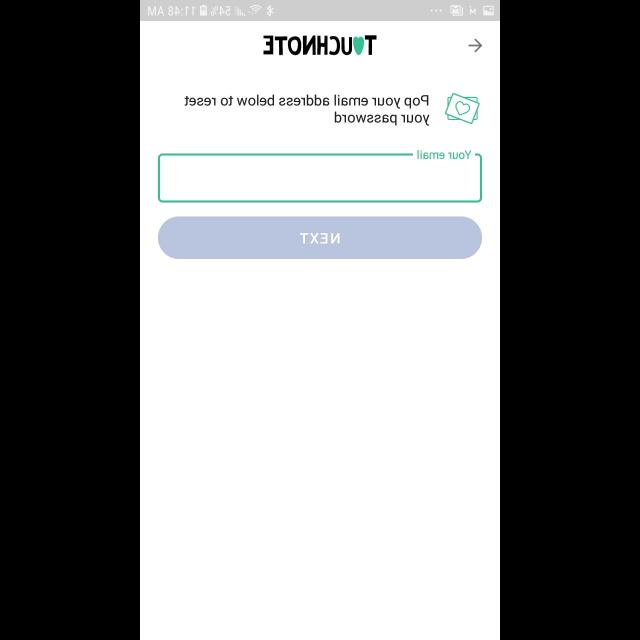icon: (468, 39, 482, 53)
image: (264, 36, 376, 56), (444, 94, 480, 125)
input: (158, 151, 482, 203)
text: (184, 94, 430, 126), (417, 150, 471, 160)
textbutton: (158, 217, 482, 260)
uppertaskbar: (140, 1, 500, 22)
